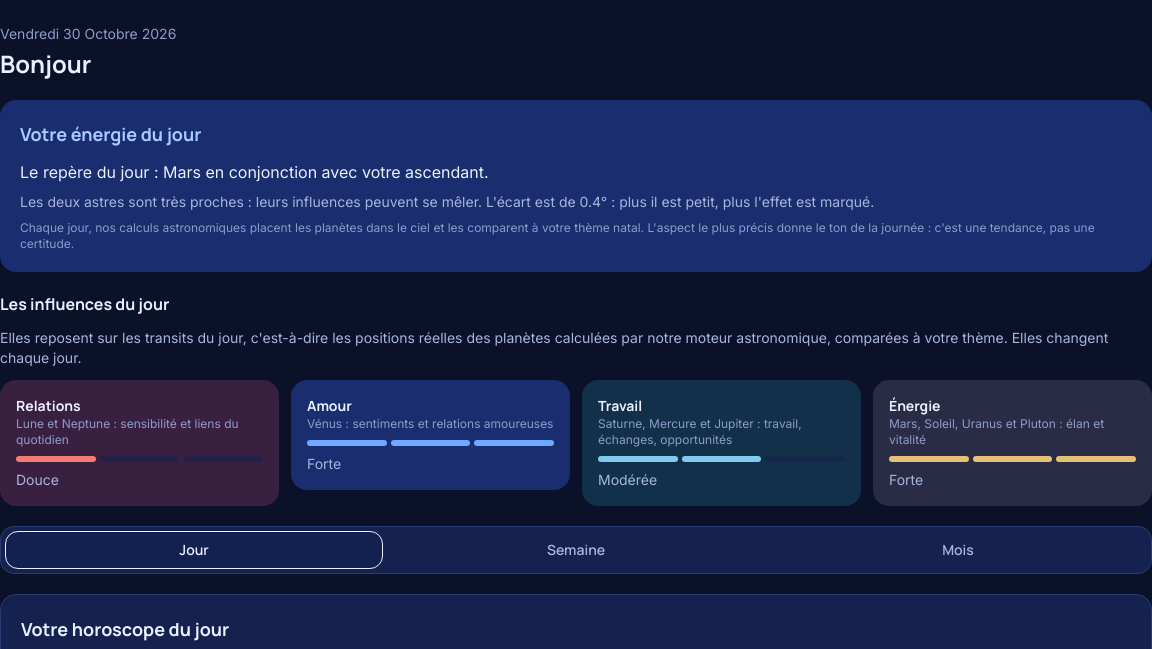
Scenario: TodayFlow › revient à l'horoscope du jour depuis la semaine
The image size is (1152, 649).
Click the radio button labelled "Semaine".
click(576, 550)  # box [387,531,765,569]
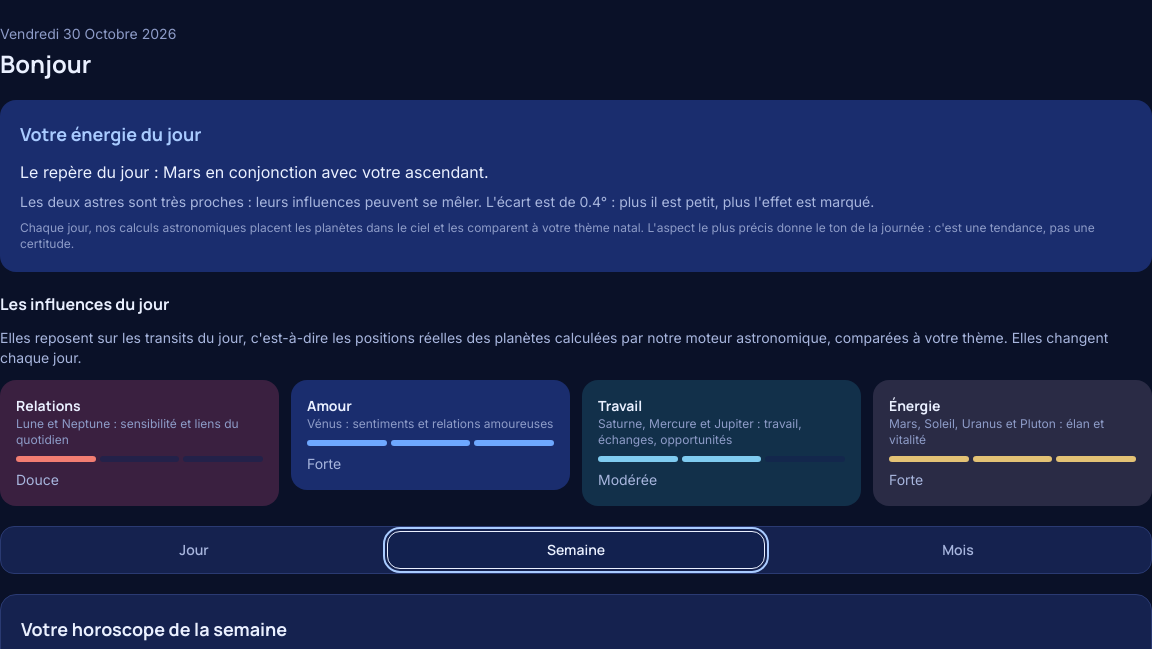
Click the radio button labelled "Jour".
click(194, 550)  # box [5,531,383,569]
(page scrolled)
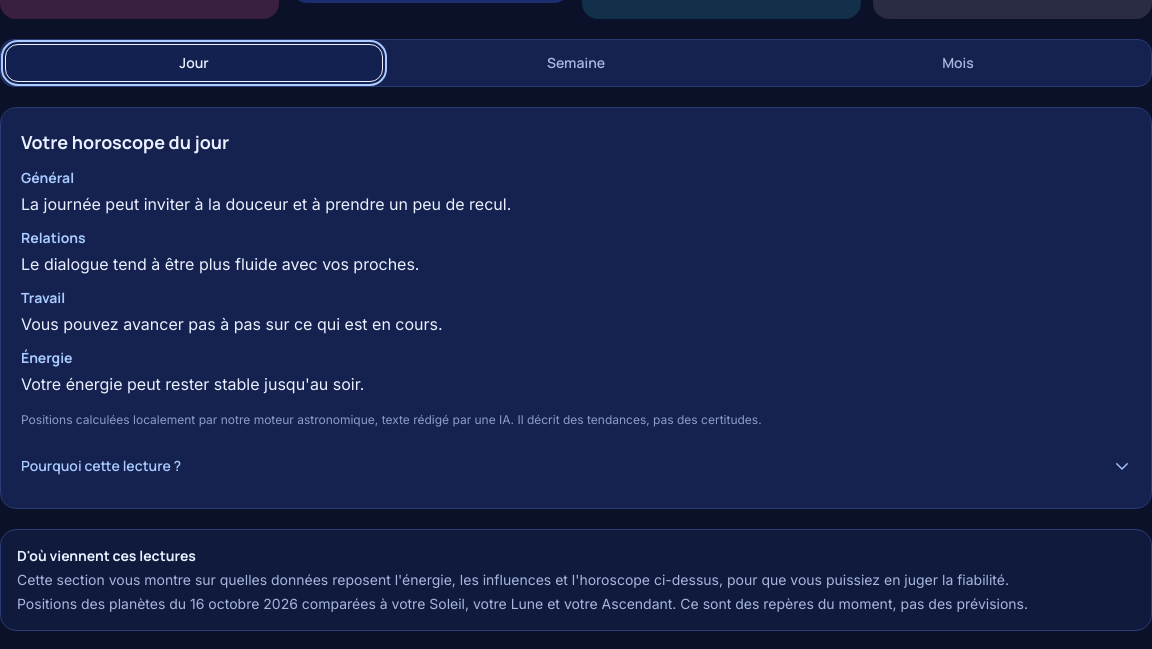
Now the element with id "horoscope__card--root" is shown
